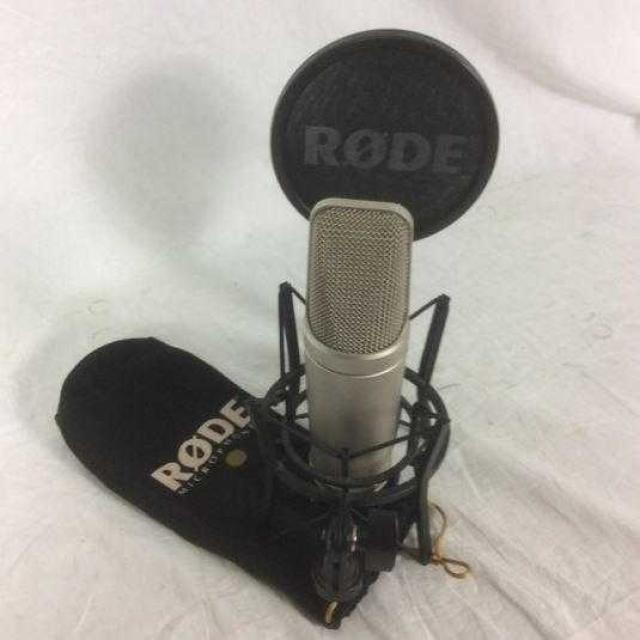microphone: (302, 198, 413, 486)
